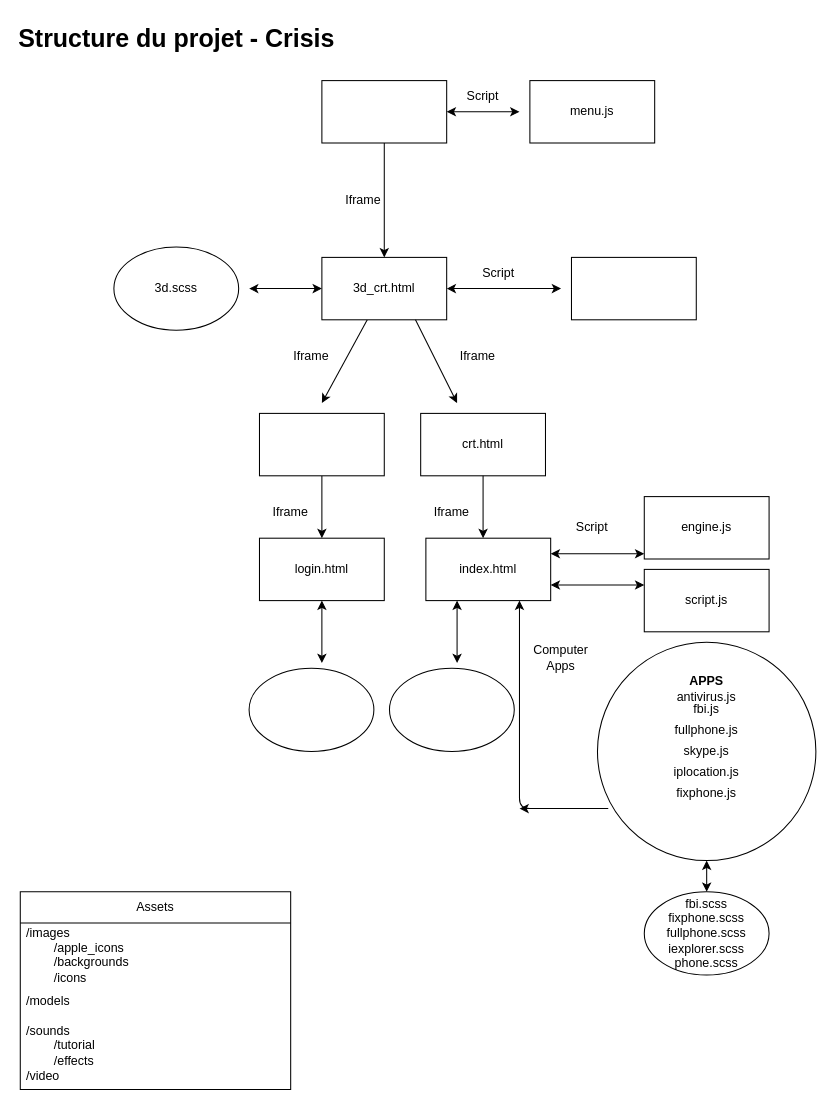
This 834x1108 diagram has some shape labels left out. Each missing label, with the centre of its shape:
"3d.js" belongs at pixel 633 288.
"crt_login.html" belongs at pixel 321 444.
"login.scss" belongs at pixel 311 709.
"main.html" belongs at pixel 384 111.
"style.scss" belongs at pixel 451 709.
